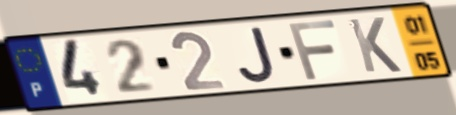2: (169, 29, 230, 93), (105, 37, 159, 96)
4: (61, 36, 109, 103)
F: (285, 18, 340, 82)
J: (236, 25, 278, 85)
K: (345, 15, 405, 75)
